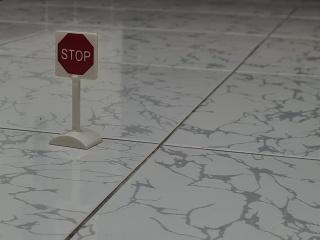stop: (47, 29, 102, 85)
